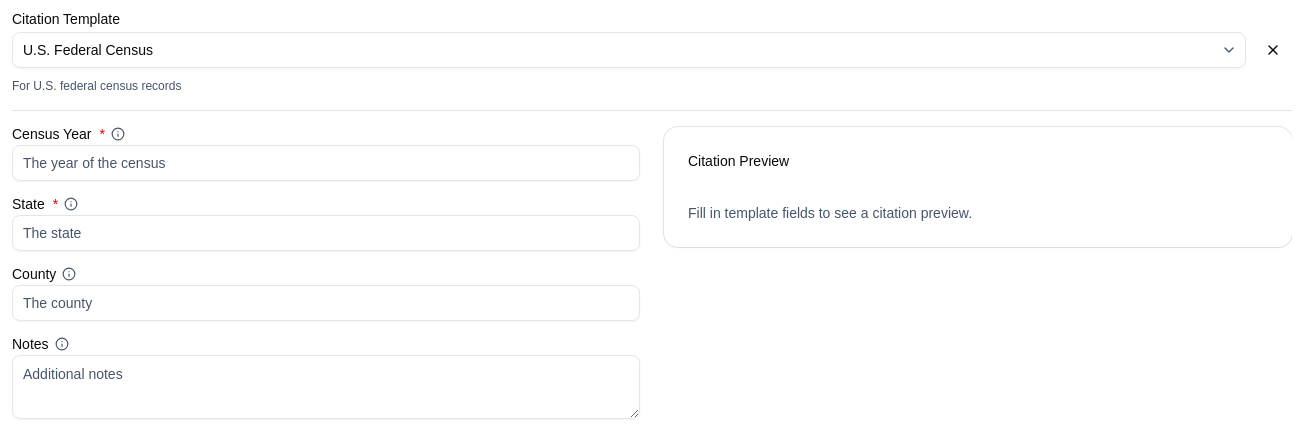
Test case: CitationTemplateForm › clear button removes template selection
Expected: the text "Census Year" is shown, [12,126,91,142]
// Click clear button
Click the button named "Clear template selection" at [1273, 50], box [1254,34,1292,66]
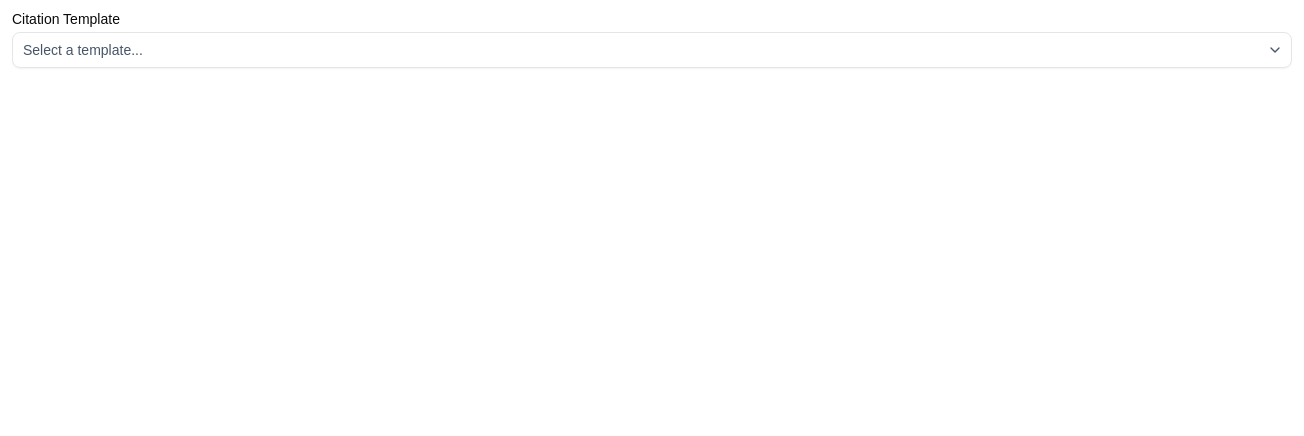
Now the label with id "template-field-year" is gone
